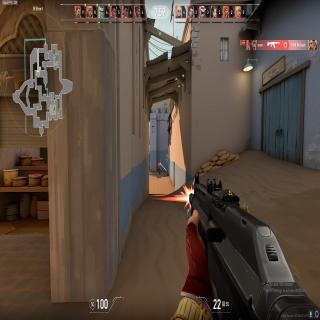ENEMY-BODY: (158, 161, 161, 175)
ENEMY-HEAD: (159, 161, 160, 164)
